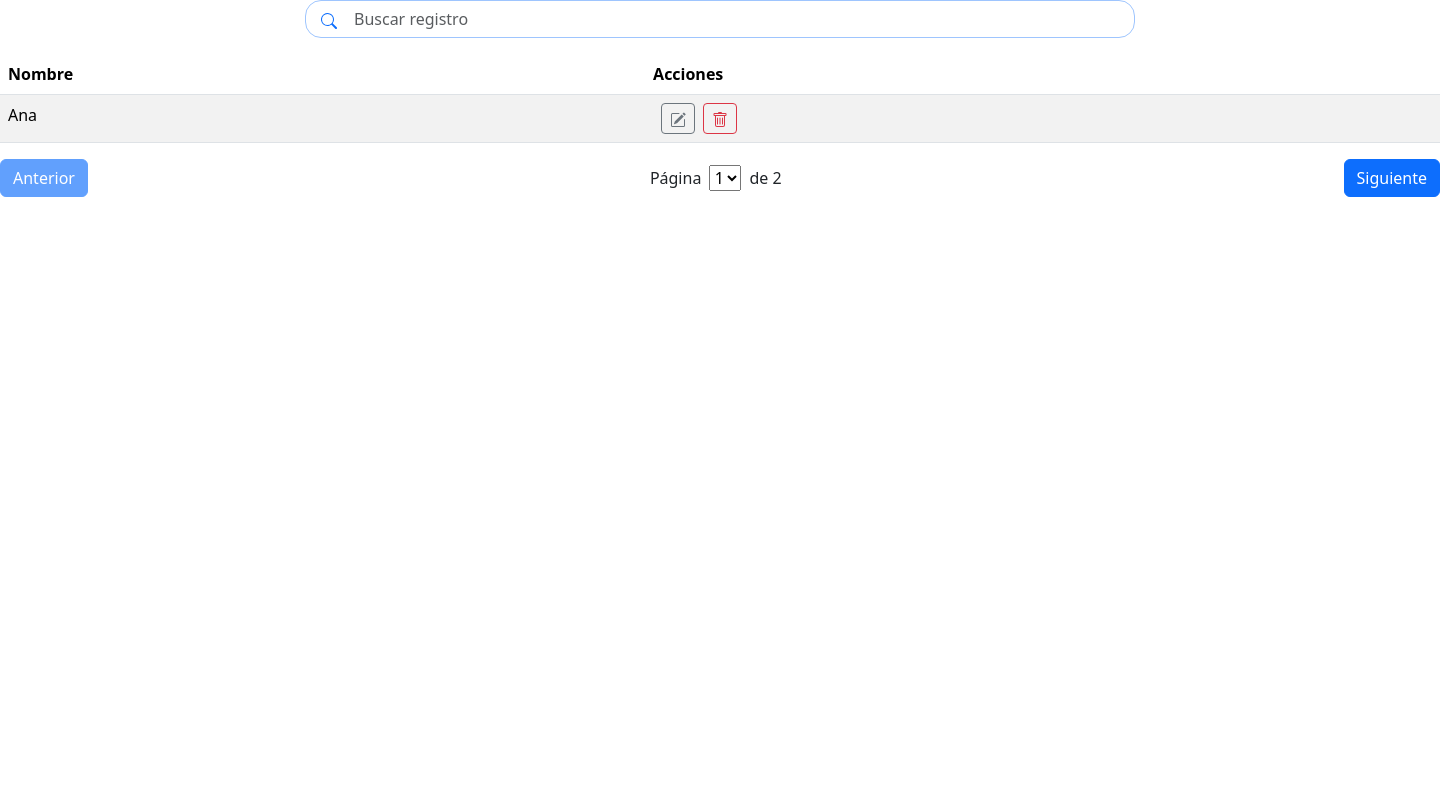
Test case: <Grid /> › confirma eliminación, actualiza la fila y notifica éxito
Expected: the text "Ana" is shown, [0,94,645,142]
Click the link titled "Eliminar" at x=720, y=118, box [703,103,737,134]
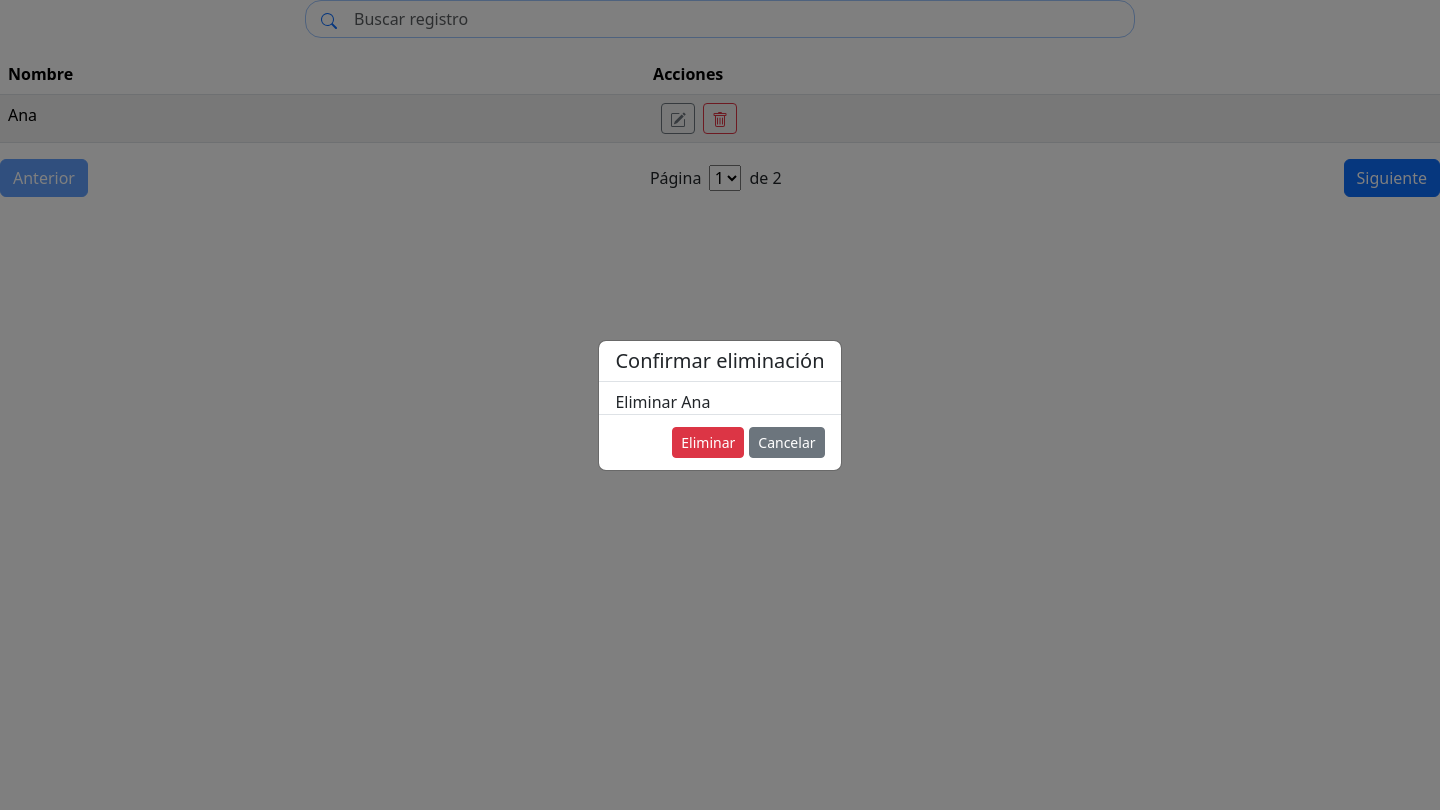
Result: the text "Eliminar Ana" is shown at [616,390,710,412]
Click the button "Eliminar" at x=708, y=442, box [672,426,744,458]
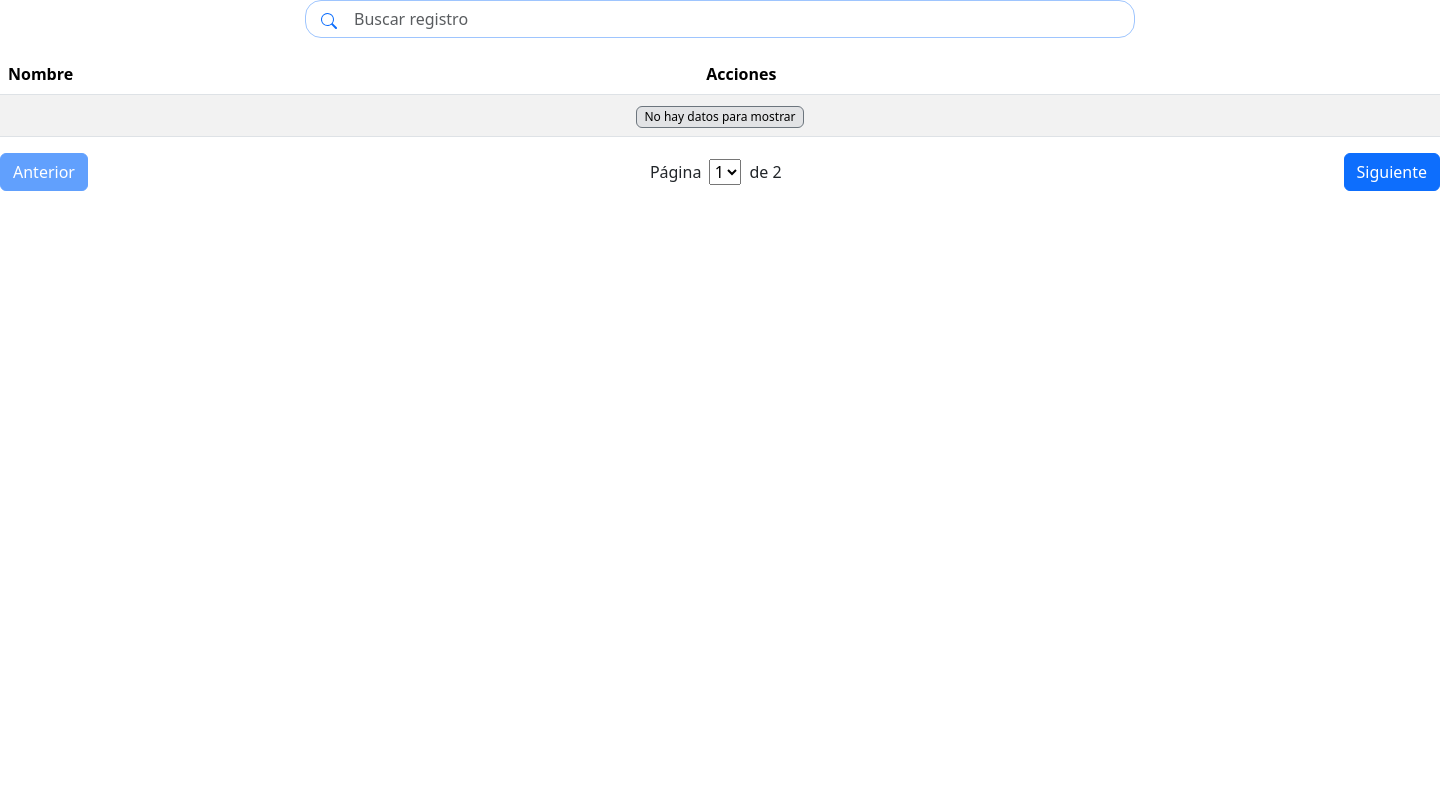
Result: the text "Ana" is gone
